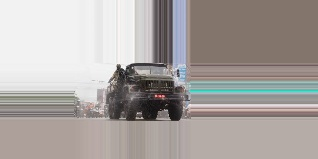plate: (153, 92, 167, 99)
